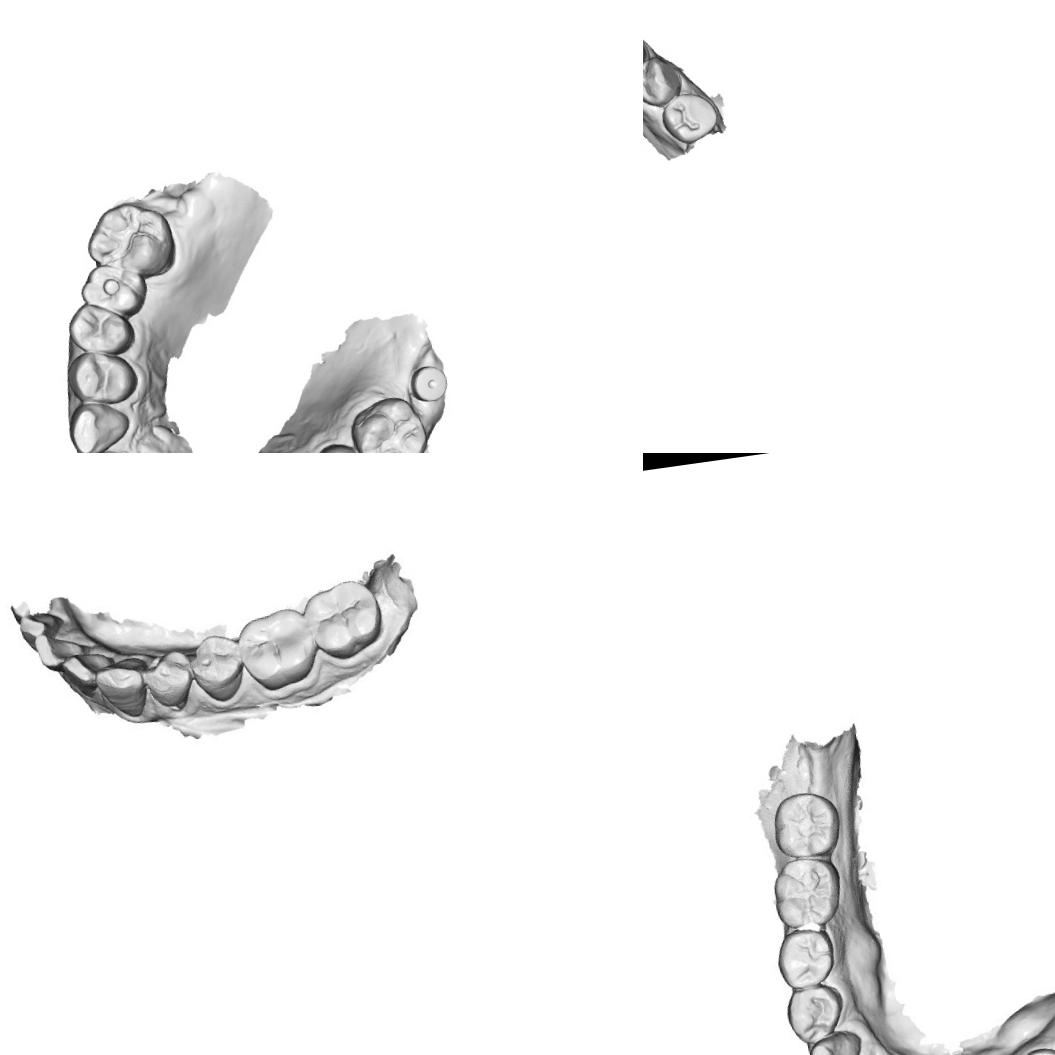canine: (64, 395, 134, 453), (98, 654, 152, 724), (809, 1032, 862, 1055)
implant: (408, 362, 450, 404)
incisor: (64, 643, 116, 698), (19, 606, 72, 650), (37, 630, 86, 666)
molar: (81, 196, 180, 286), (304, 576, 388, 662), (236, 608, 320, 694), (345, 391, 434, 453), (768, 857, 840, 933), (768, 787, 842, 860), (76, 258, 152, 324)
premolar: (62, 344, 140, 410), (63, 296, 138, 362), (781, 981, 852, 1050), (141, 644, 199, 718), (773, 926, 836, 993), (191, 633, 247, 707), (658, 88, 722, 147), (643, 52, 684, 110), (311, 437, 376, 453)
